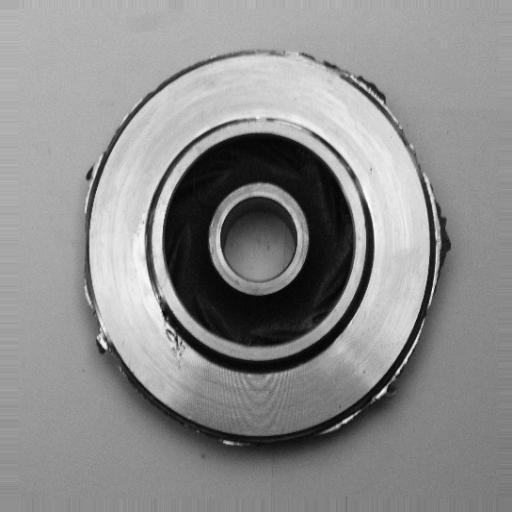casting_with_burr: (75, 45, 452, 451)
crack: (159, 295, 192, 363)
scratch: (237, 110, 329, 138)
